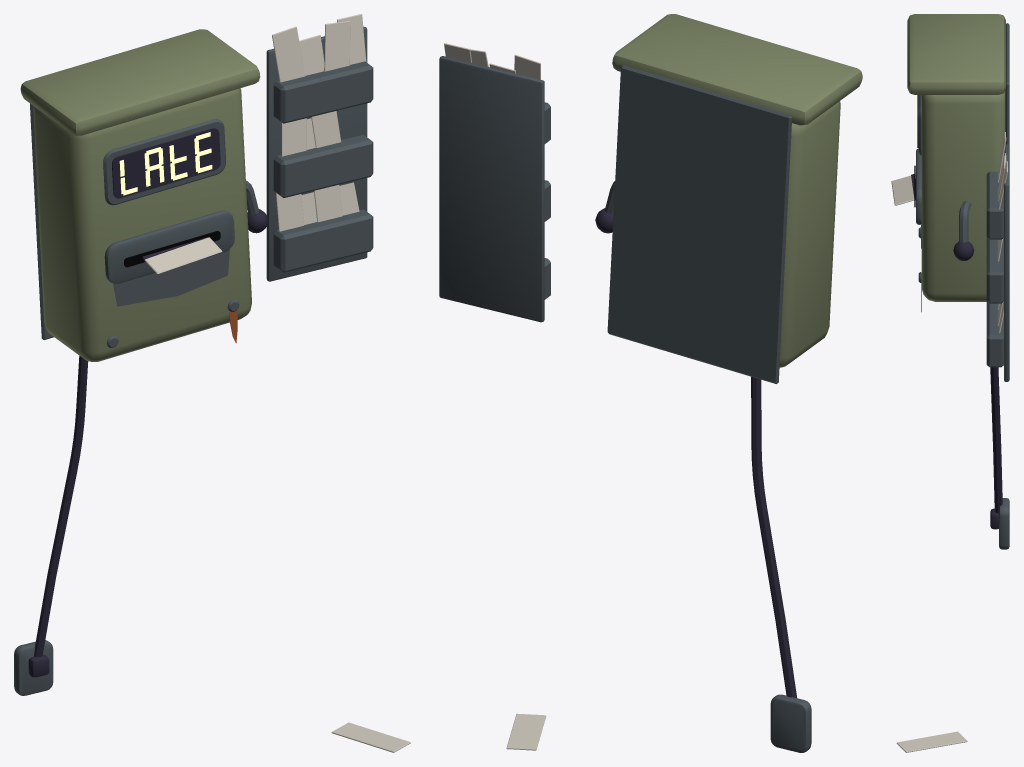
The model's file is punch_clock.glb.
The picture shows the model from 3 angles, left to right: view 1: azimuth 30°, elevation 25°; view 2: azimuth 150°, elevation 25°; view 3: azimuth 270°, elevation 25°; orthographic projection. The views are drawn at different scales.
Visible parts, largest first — view 1: punch_clock; view 2: punch_clock; view 3: punch_clock.
Part boxes in pixels (x1,y1,x2,y2): punch_clock: [14, 14, 410, 752]; punch_clock: [439, 14, 862, 752]; punch_clock: [891, 14, 1009, 752].
Bounding box in the file's own units: 0.99 × 1.91 × 0.3356.
